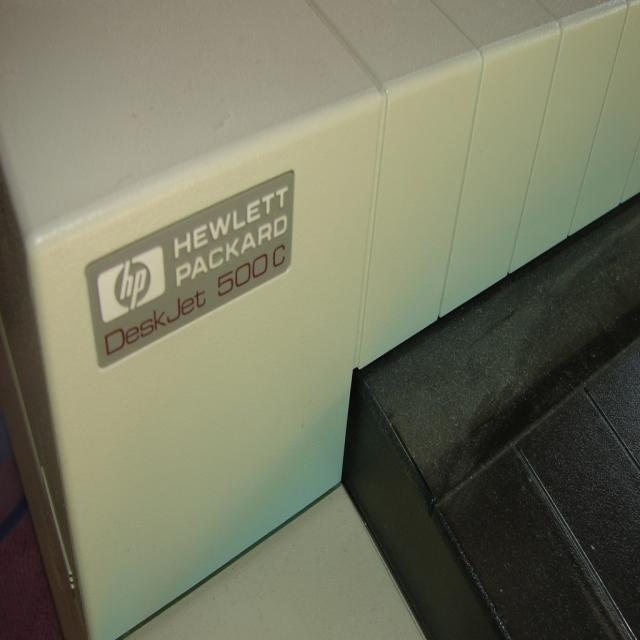HP: (95, 245, 170, 326)
